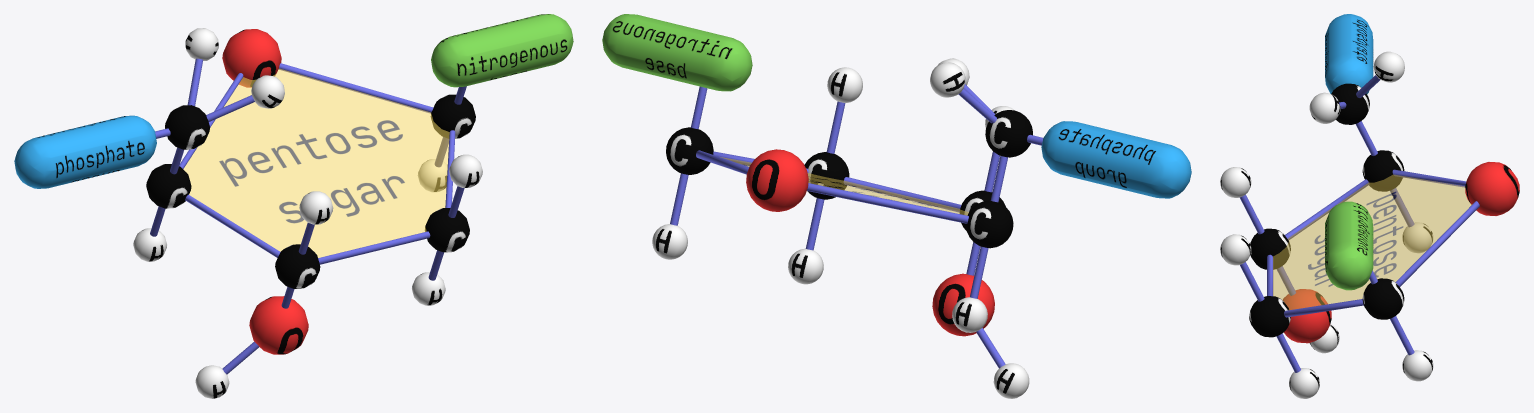
The model's file is chapter-1-section-5-nucleotide.glb.
The picture shows the model from 3 angles, left to right: view 1: azimuth 30°, elevation 25°; view 2: azimuth 150°, elevation 25°; view 3: azimuth 270°, elevation 25°; orthographic projection. The views are drawn at different scales.
Parts seen in each view (by area): view 1: Circle.002, Circle, Mball.002, Mball.003, Circle.001, oxygen.006, oxygen.008, carbon.004, Plane.010, Plane.009, Plane.011; view 2: Circle, Mball.002, Mball.003, Circle.001, oxygen.008, oxygen.006, carbon.004, Circle.002, Plane.009, Plane.011; view 3: Circle.002, Circle, Mball.003, Mball.002, Circle.001, oxygen.008, oxygen.006, carbon.004, Plane.009, Plane.010, Plane.011.
Boxes of the visible parts, x1,y1,x2,y2 form: Circle.002: [183, 68, 449, 257]; Circle: [133, 86, 482, 308]; Mball.002: [14, 115, 156, 188]; Mball.003: [431, 14, 573, 87]; Circle.001: [179, 63, 455, 264]; oxygen.006: [249, 296, 308, 354]; oxygen.008: [222, 29, 281, 87]; carbon.004: [165, 105, 209, 149]; Plane.010: [206, 75, 284, 121]; Plane.009: [185, 28, 218, 106]; Plane.011: [195, 341, 259, 398]; Circle: [652, 67, 1014, 332]; Mball.002: [1041, 121, 1191, 198]; Mball.003: [602, 14, 752, 91]; Circle.001: [696, 150, 968, 223]; oxygen.008: [746, 149, 808, 211]; oxygen.006: [932, 273, 994, 336]; carbon.004: [985, 110, 1032, 157]; Circle.002: [720, 157, 968, 215]; Plane.009: [930, 62, 996, 123]; Plane.011: [976, 328, 1029, 398]; Circle.002: [1273, 174, 1472, 310]; Circle: [1220, 121, 1433, 398]; Mball.003: [1325, 201, 1373, 290]; Mball.002: [1325, 14, 1373, 94]; Circle.001: [1267, 169, 1479, 317]; oxygen.008: [1465, 162, 1519, 215]; oxygen.006: [1282, 289, 1331, 343]; carbon.004: [1331, 83, 1369, 124]; Plane.009: [1356, 51, 1404, 97]; Plane.010: [1309, 92, 1346, 123]; Plane.011: [1309, 324, 1339, 353].
Bounding box in the file's own units: 6.49 × 3.78 × 3.31.
Materials: 7 (6 with a texture image).
